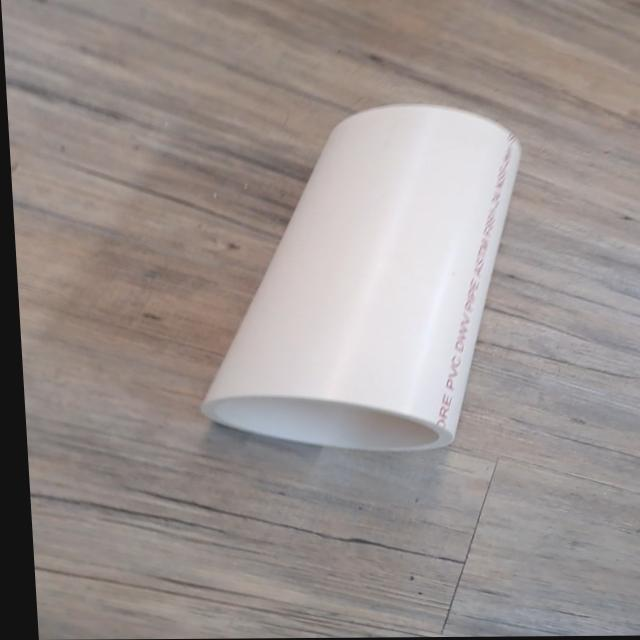CORAL: (173, 105, 543, 458)
